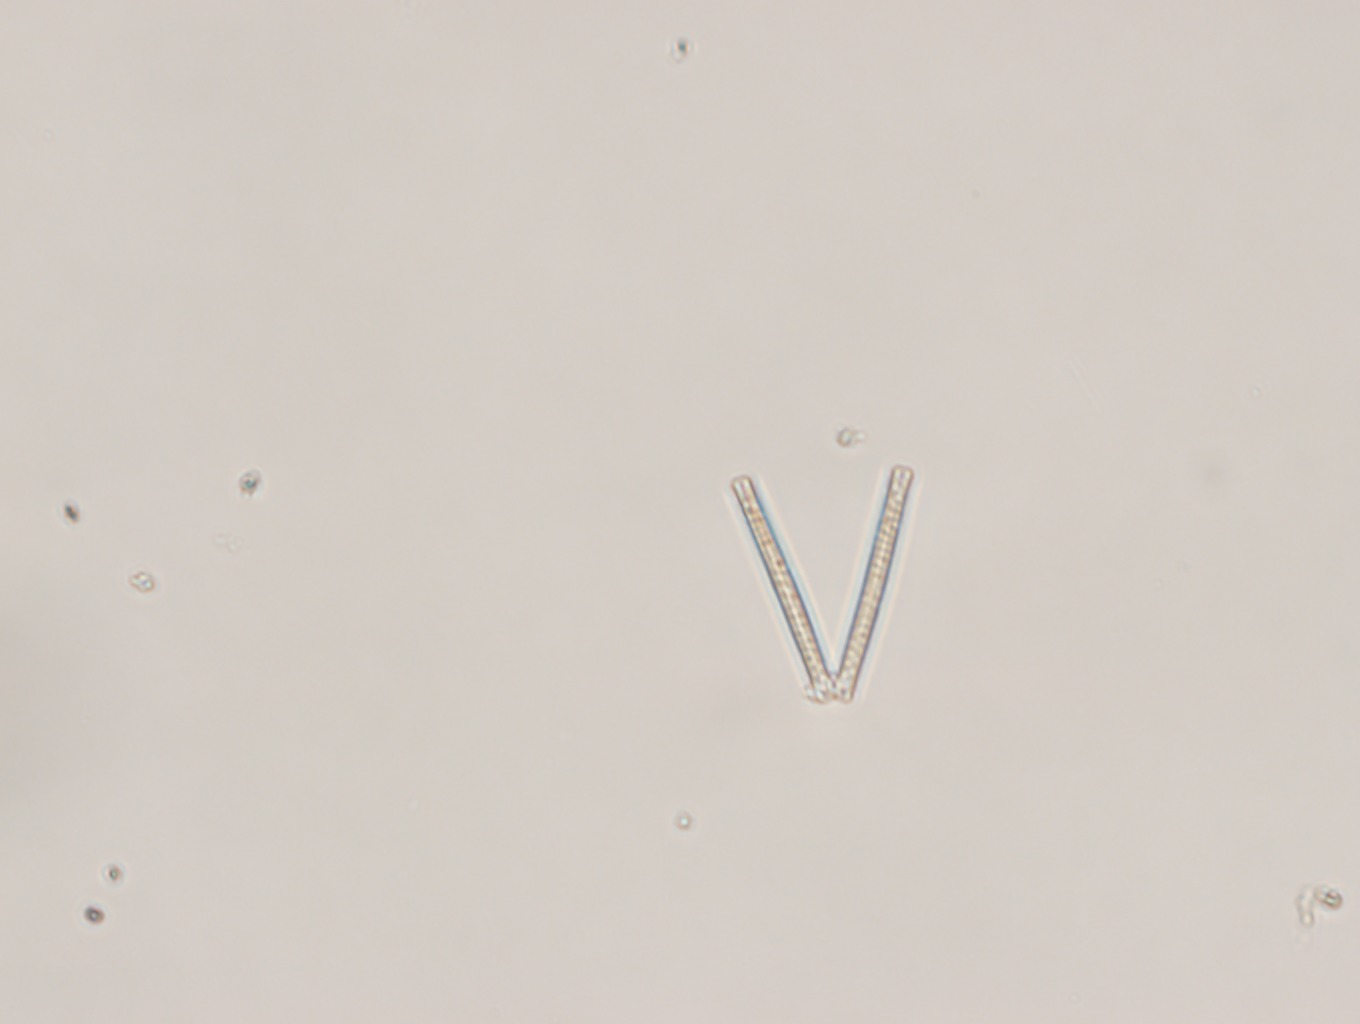thalassionema nitzschioides: (724, 465, 914, 705)
